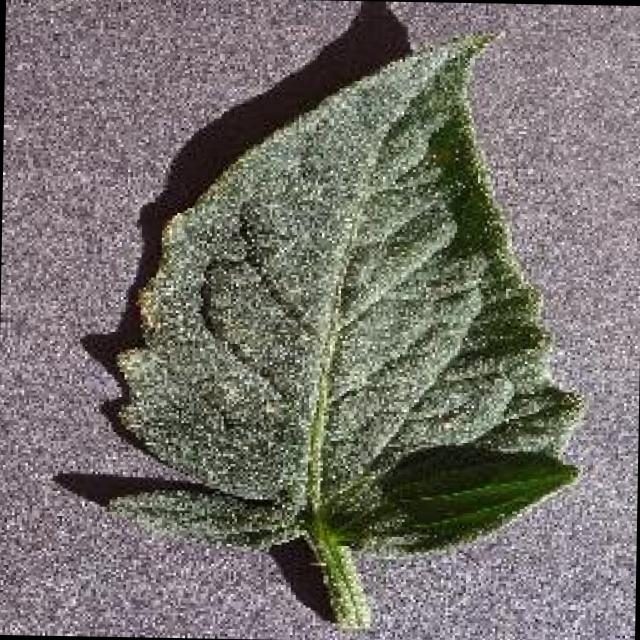Tomato_Healthy: (70, 29, 605, 566)
